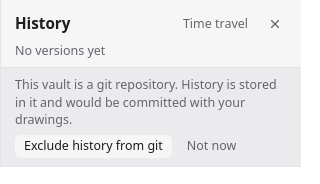
git notice › works when local storage is unavailable
The width and height of the screenshot is (320, 184).
Click the button "Not now" at (212, 146), box [178, 135, 245, 158]
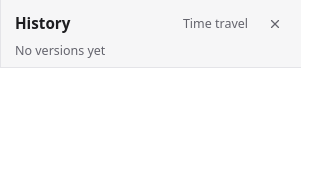
Expected: the element with test id "history-git-notice" is gone
